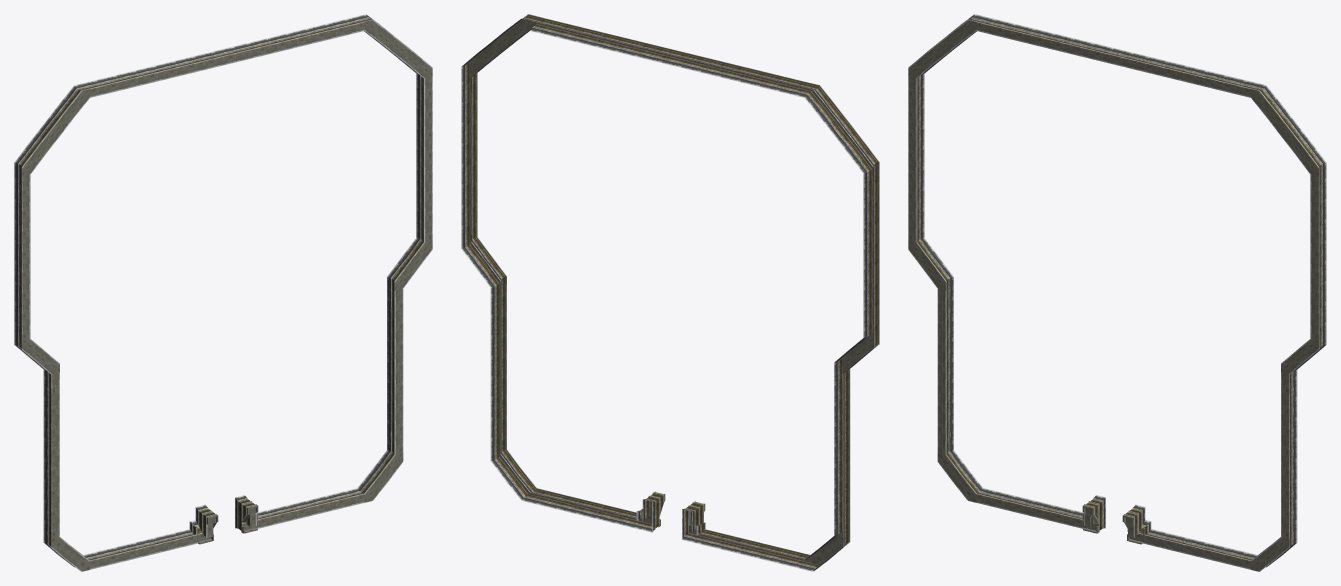
Rendered from zhongbu_fuben_207_wall_01.obj.
The picture shows the model from 3 angles, left to right: view 1: azimuth 30°, elevation 25°; view 2: azimuth 150°, elevation 25°; view 3: azimuth 330°, elevation 25°; orthographic projection.
Parts seen in each view (by area): view 1: zhongbu_fuben_63_wall_01; view 2: zhongbu_fuben_63_wall_01; view 3: zhongbu_fuben_63_wall_01.
Boxes of the visible parts, <box> form: zhongbu_fuben_63_wall_01: <box>14,14,432,571</box>; zhongbu_fuben_63_wall_01: <box>461,14,879,571</box>; zhongbu_fuben_63_wall_01: <box>908,14,1326,571</box>.
Bounding box in the file's own units: 5379 × 6017 × 291.
1 material, 1 textured.
